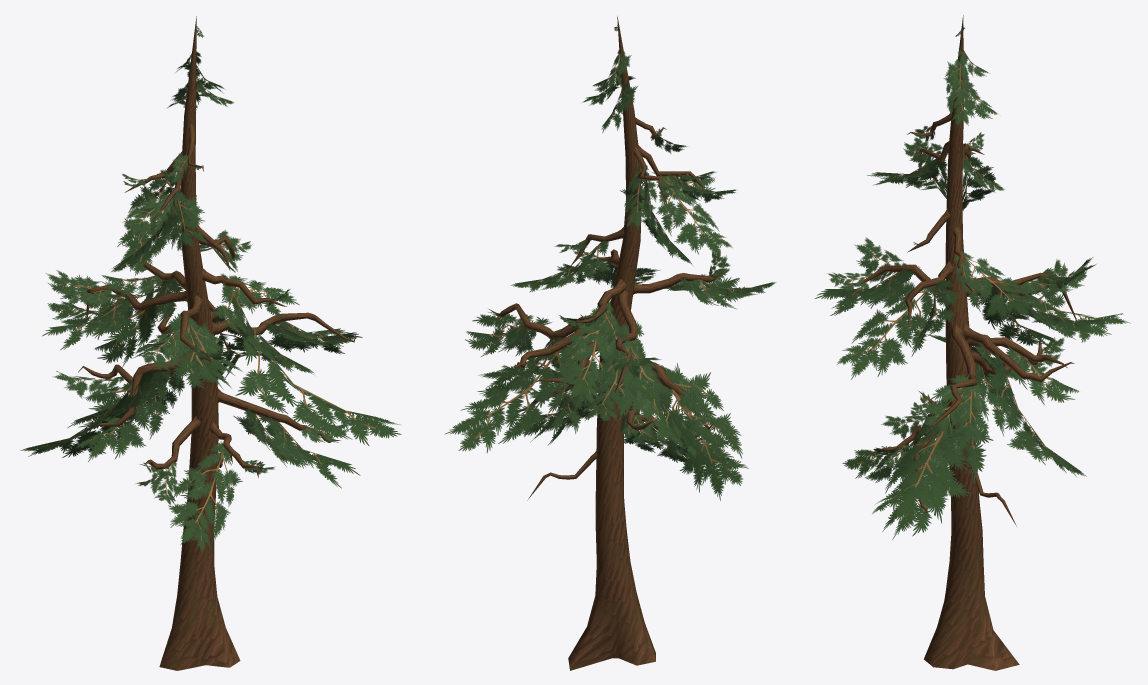
File: tree-mountain_pine_a.glb
3 renders of one model, left to right at view 1: azimuth 30°, elevation 25°; view 2: azimuth 150°, elevation 25°; view 3: azimuth 270°, elevation 25°, orthographic.
Parts seen in each view (by area): view 1: Mountain_Pine_A.dmx-static; view 2: Mountain_Pine_A.dmx-static; view 3: Mountain_Pine_A.dmx-static.
Boxes of the visible parts, <box> form: Mountain_Pine_A.dmx-static: <box>20,16,401,670</box>; Mountain_Pine_A.dmx-static: <box>444,16,776,670</box>; Mountain_Pine_A.dmx-static: <box>814,15,1130,670</box>.
Bounding box in the file's own units: 11.59 × 21.41 × 9.85.
Materials: 2 (2 with a texture image).
